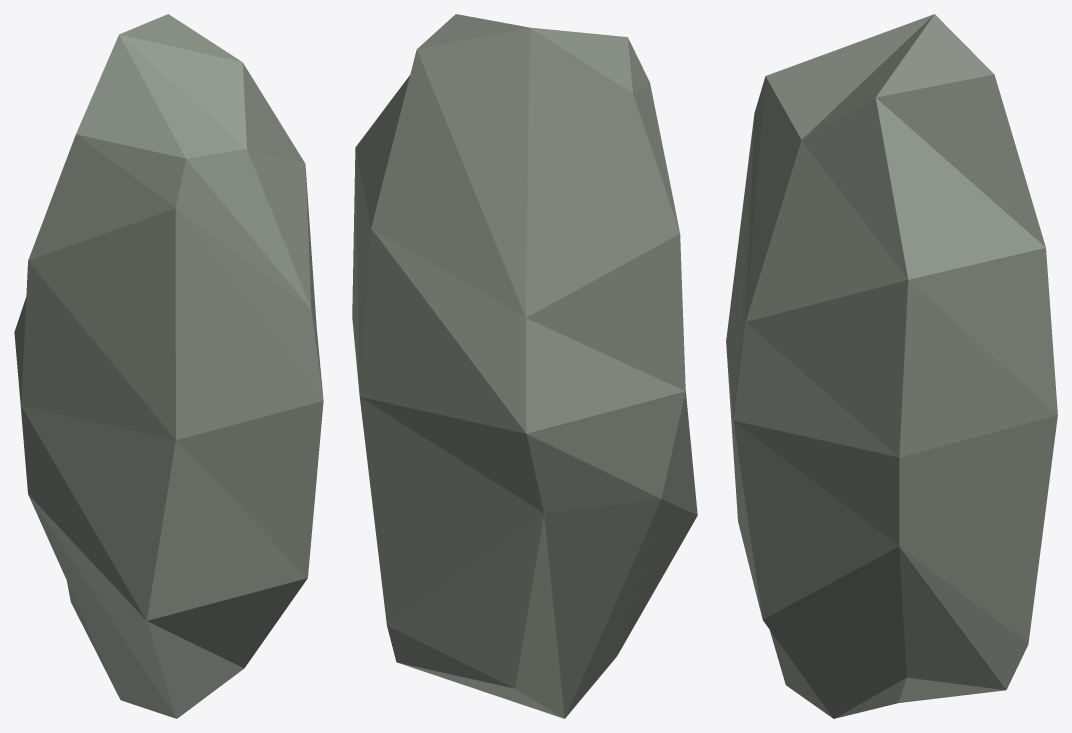
Rendered from Rock_Dark_4.fbx.
The picture shows the model from 3 angles, left to right: view 1: azimuth 30°, elevation 25°; view 2: azimuth 150°, elevation 25°; view 3: azimuth 270°, elevation 25°; orthographic projection. The views are drawn at different scales.
Visible parts, largest first — view 1: Rock_Dark_4; view 2: Rock_Dark_4; view 3: Rock_Dark_4.
Boxes of the visible parts, box(x1,y1,x2,y2) form: Rock_Dark_4: box(14, 14, 323, 718); Rock_Dark_4: box(352, 14, 697, 718); Rock_Dark_4: box(726, 14, 1057, 718).
Bounding box in the file's own units: 2 × 4.1 × 1.77.
